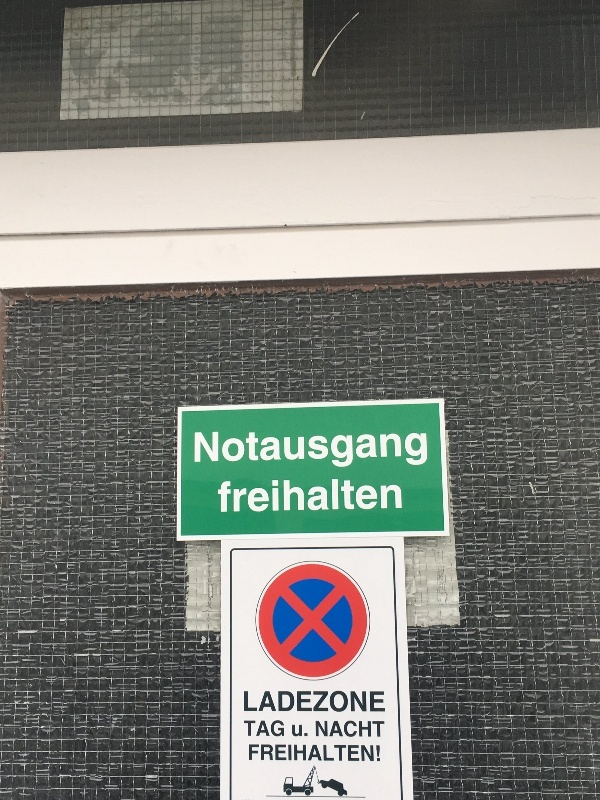text: (209, 431, 224, 471), (225, 431, 240, 471), (241, 431, 256, 471), (257, 431, 272, 471), (273, 431, 288, 471), (289, 431, 304, 471), (305, 431, 320, 471), (321, 431, 336, 471), (337, 431, 352, 471), (353, 431, 368, 471), (369, 431, 384, 471), (385, 431, 400, 471), (401, 431, 416, 471), (194, 431, 208, 471), (225, 477, 240, 513), (241, 477, 256, 513), (257, 477, 272, 513), (273, 477, 288, 513), (289, 477, 304, 513), (305, 477, 320, 513), (321, 477, 336, 513), (337, 477, 352, 513), (353, 477, 368, 513), (369, 477, 384, 513), (385, 477, 400, 513), (417, 431, 429, 471), (369, 690, 385, 713), (257, 690, 272, 713), (273, 690, 288, 713), (289, 690, 304, 713), (305, 690, 320, 713), (321, 690, 336, 713), (337, 690, 352, 713), (353, 690, 368, 713), (369, 720, 385, 738), (244, 690, 256, 713), (257, 720, 272, 738), (321, 720, 336, 738), (337, 720, 352, 738), (353, 720, 368, 738), (257, 744, 272, 762), (273, 744, 288, 762), (289, 744, 304, 762), (305, 744, 320, 762), (321, 744, 336, 762), (337, 744, 352, 762), (353, 744, 368, 762), (217, 477, 224, 513), (244, 720, 256, 738), (273, 720, 285, 738), (369, 744, 380, 762), (292, 724, 304, 738), (249, 744, 256, 762), (401, 477, 403, 513), (316, 720, 320, 738), (305, 724, 308, 738)
